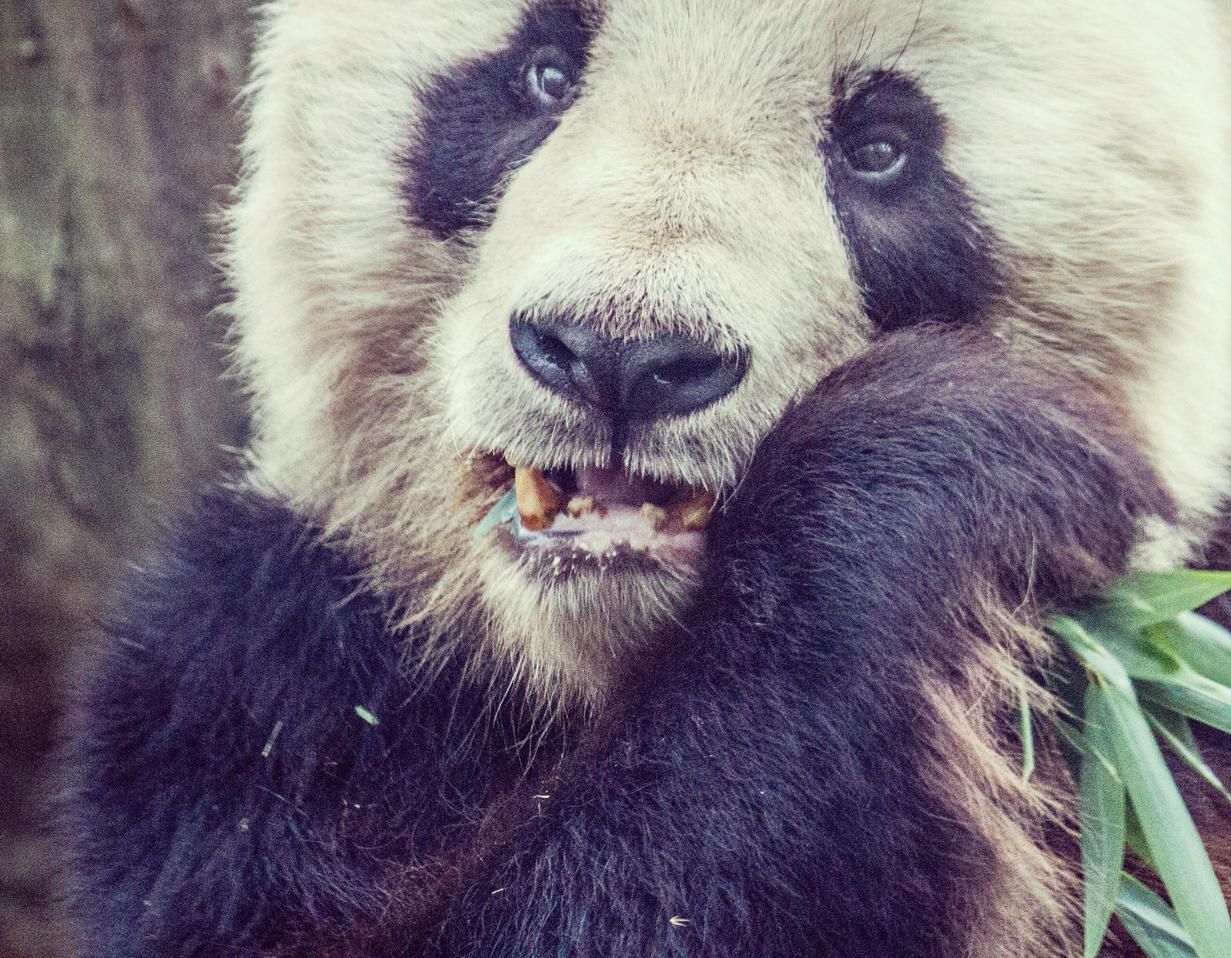panda: (93, 0, 1214, 955)
